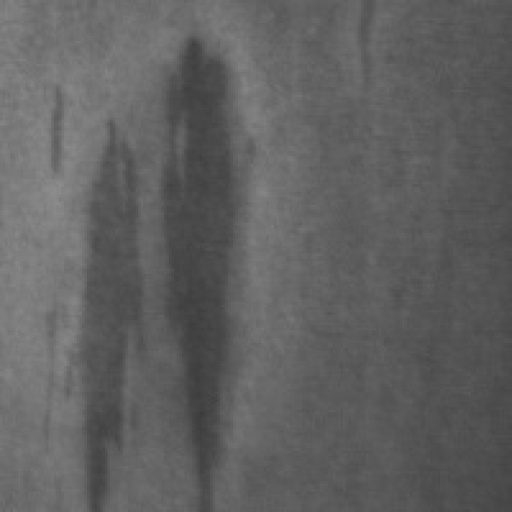inclusion: (152, 30, 269, 511), (72, 108, 156, 505), (40, 73, 74, 188), (349, 1, 386, 96)
